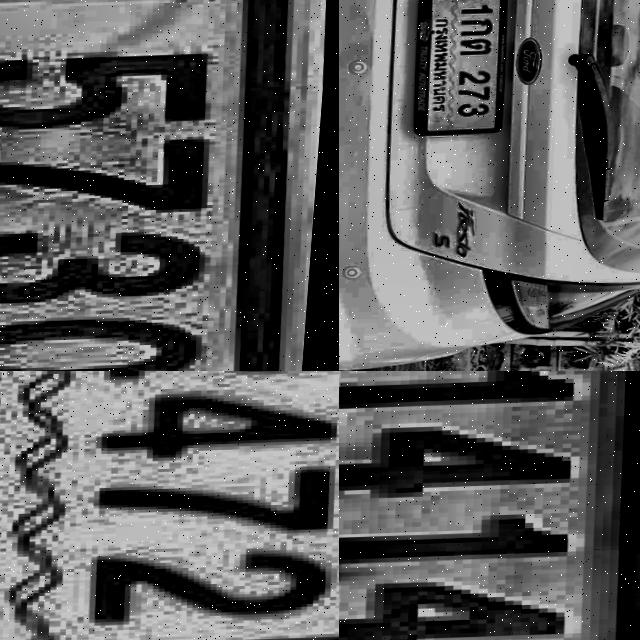license-plate: (0, 0, 323, 371), (0, 371, 339, 640), (339, 371, 640, 640), (410, 0, 520, 139)
